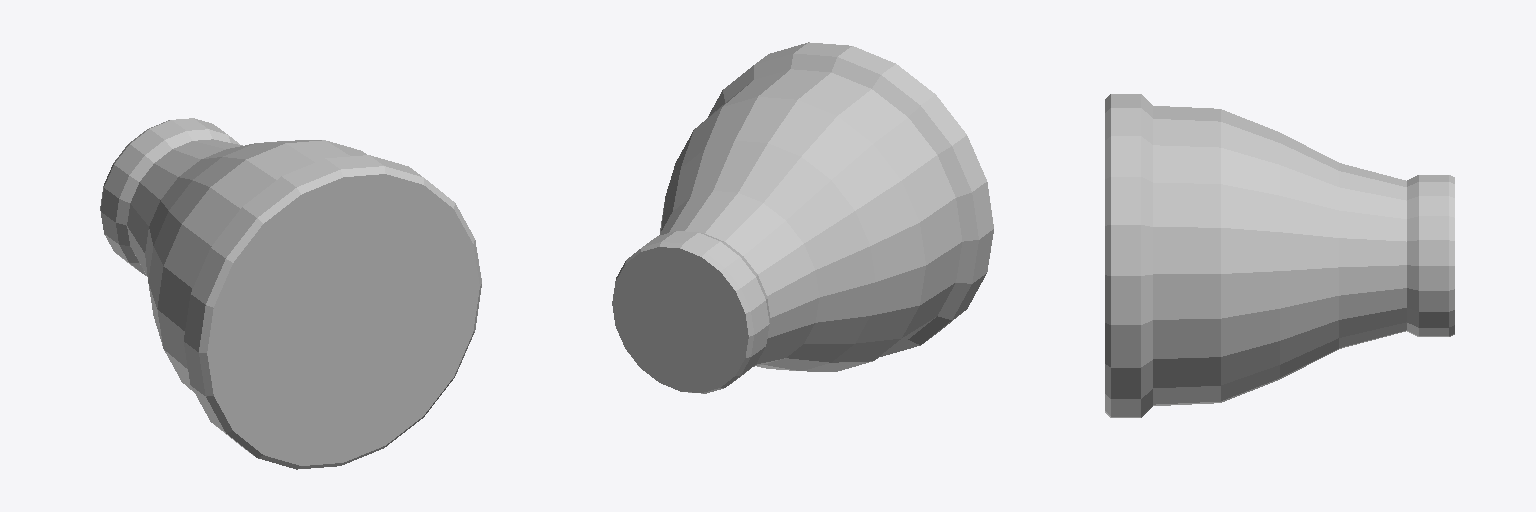
Rendered from PipeShrink2.obj.
3 renders of one model, left to right at view 1: azimuth 30°, elevation 25°; view 2: azimuth 150°, elevation 25°; view 3: azimuth 270°, elevation 25°, orthographic.
Parts seen in each view (by area): view 1: PipeShrink2; view 2: PipeShrink2; view 3: PipeShrink2.
Part boxes in pixels (x1,y1,x2,y2): PipeShrink2: (100, 118, 481, 469); PipeShrink2: (612, 42, 993, 393); PipeShrink2: (1105, 94, 1454, 417).
Size of the model in its own units: 0.054 by 0.054 by 0.0578.